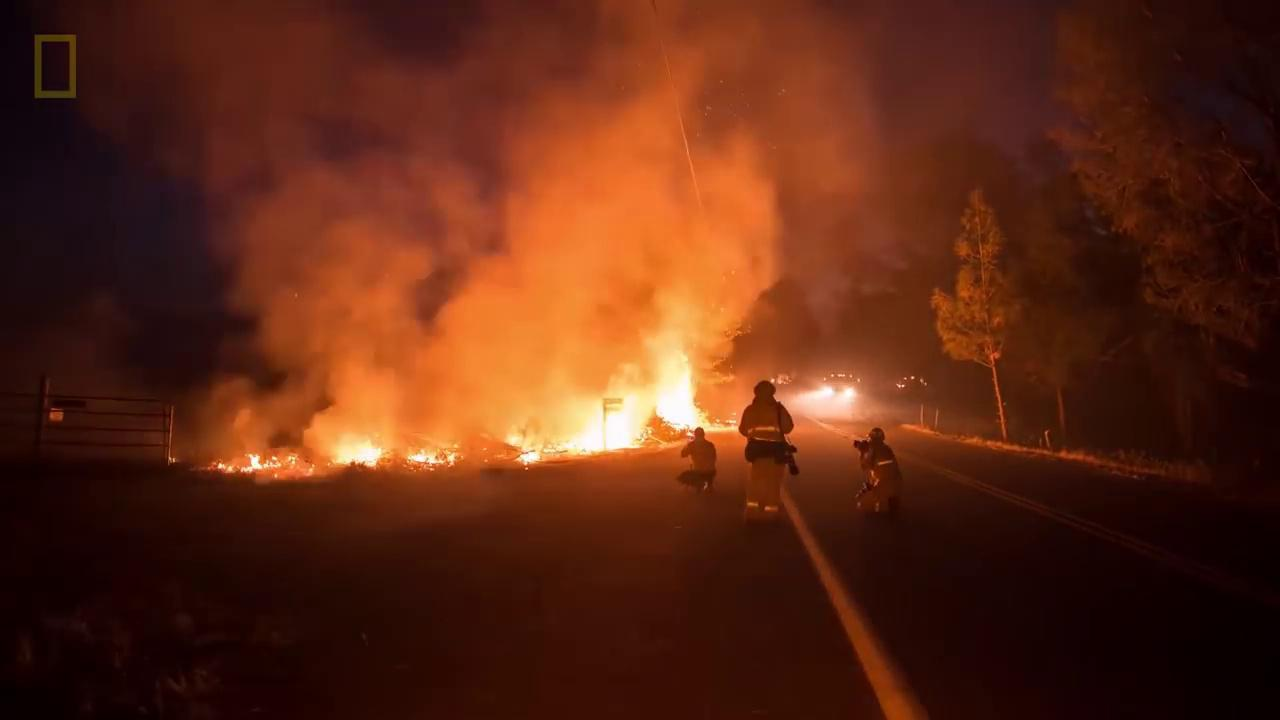Fire: (506, 355, 730, 466), (214, 447, 281, 479), (332, 438, 387, 473), (408, 445, 457, 472)
